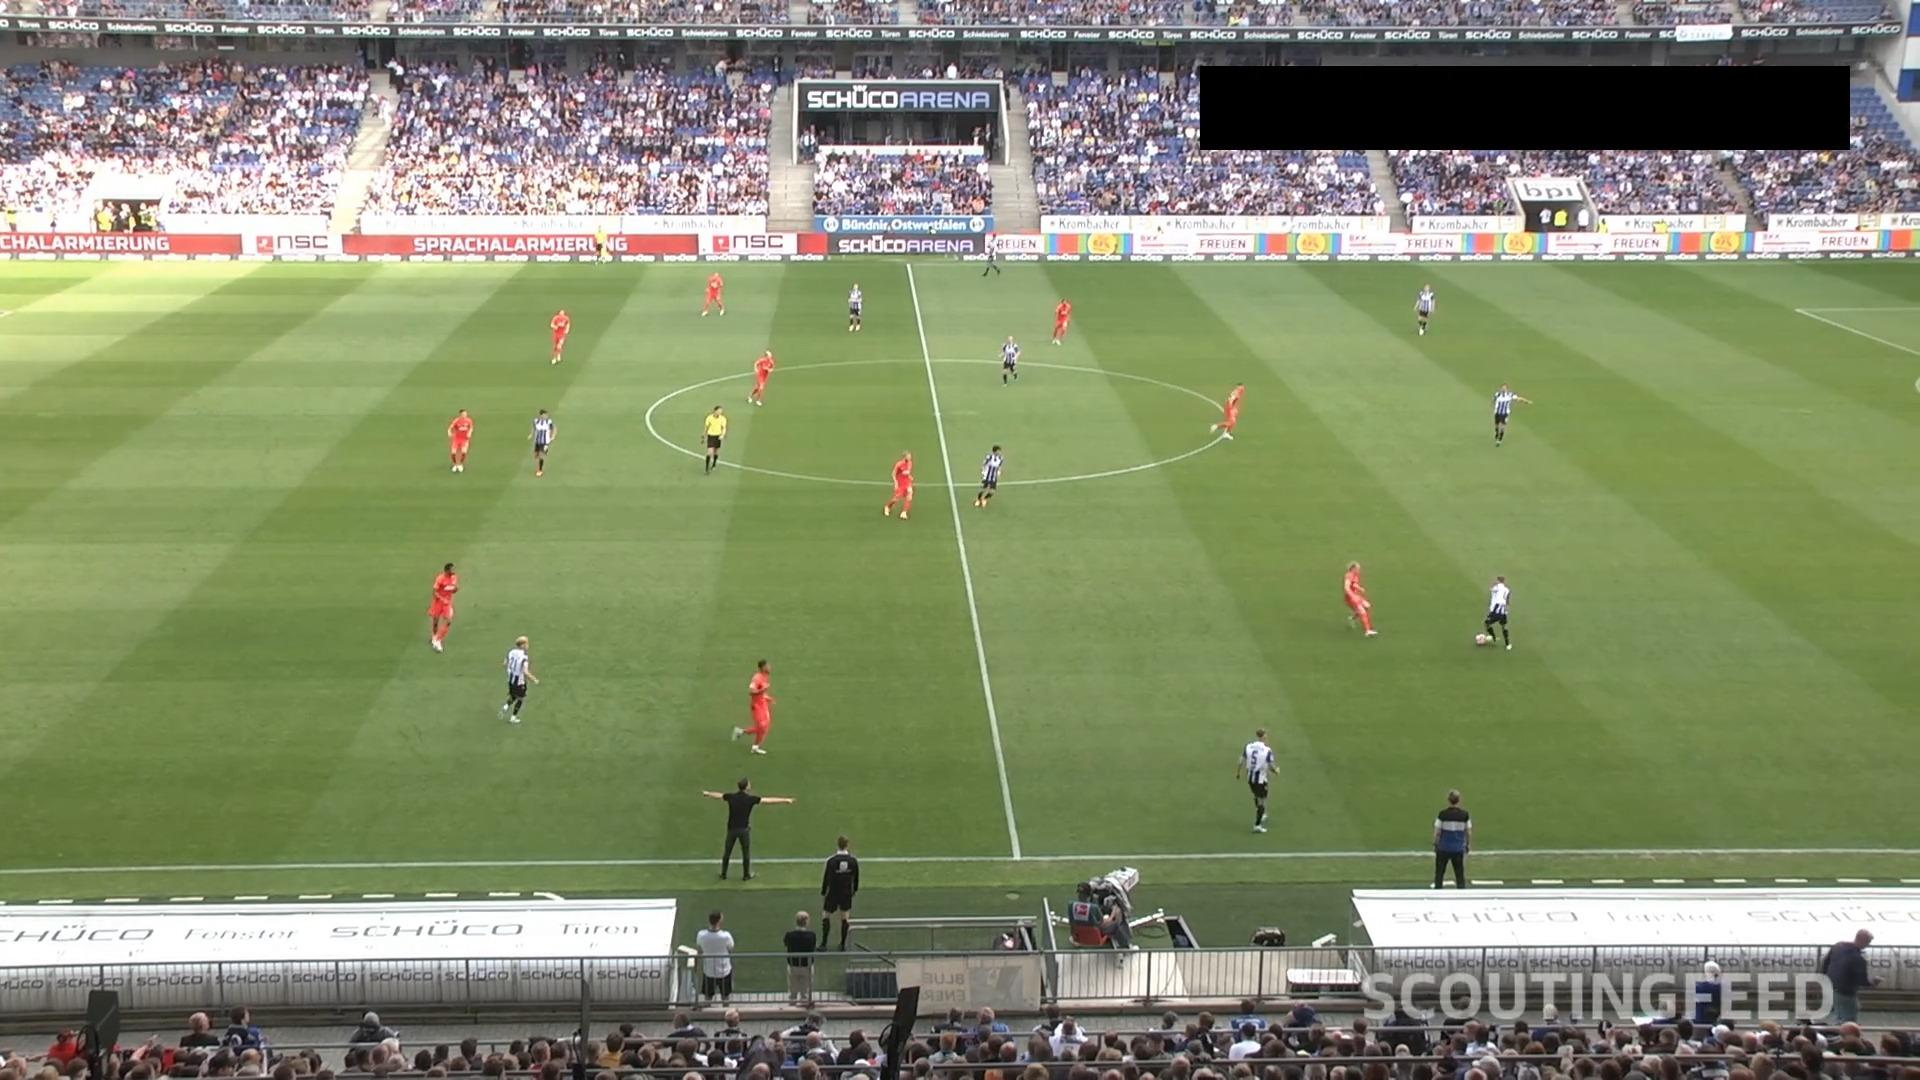ball: (1474, 632, 1487, 645)
